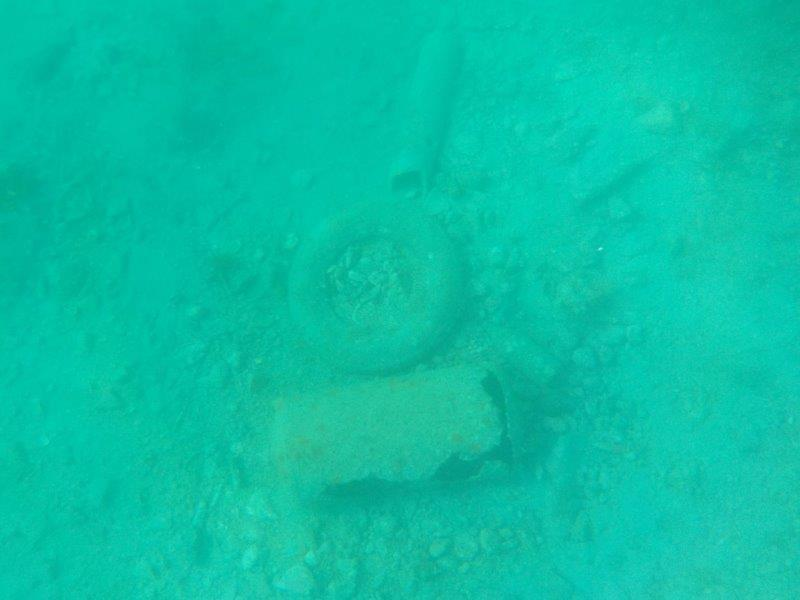bottle: (479, 314, 567, 391)
tire: (284, 193, 471, 376)
